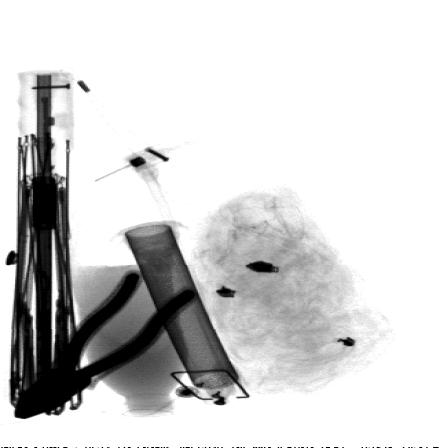Pliers: (13, 269, 202, 420)
